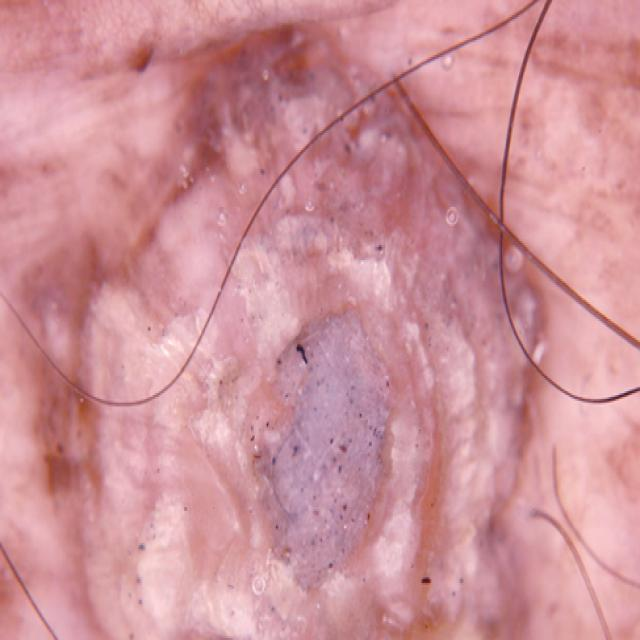Melanoma: (182, 193, 496, 640)
